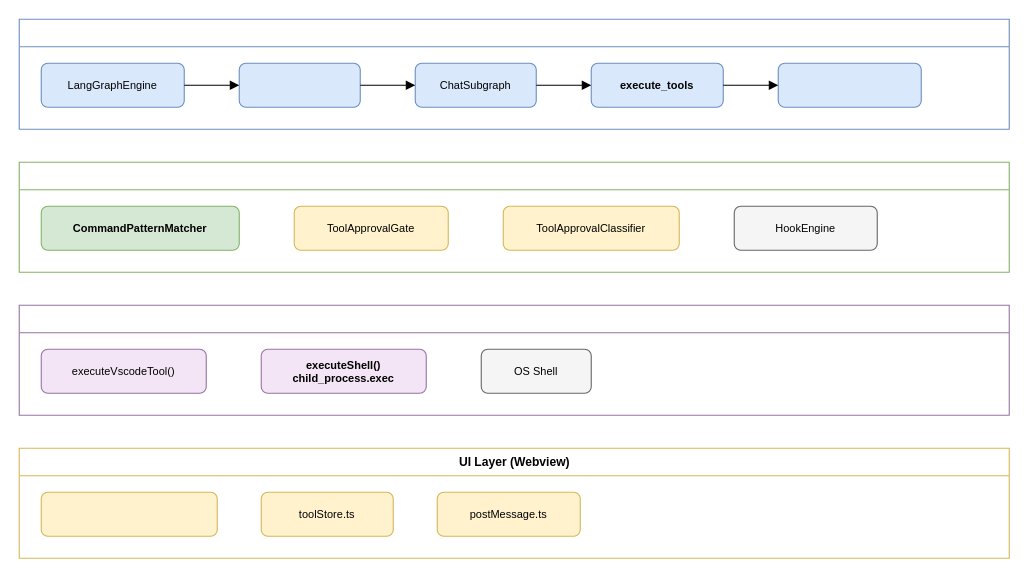
This 1029x578 diagram has some shape labels left out. The box of each missing label's shape, as (x1, y1, x2, y2) in pixels:
executeSingleTool: (777, 62, 921, 107)
Execution Layer: (18, 304, 1009, 415)
Graph Pipeline Layer: (18, 18, 1009, 129)
PermissionGuard.svelte: (40, 491, 217, 536)
RouterGraph: (238, 62, 360, 107)
Service Layer: (18, 161, 1009, 272)
